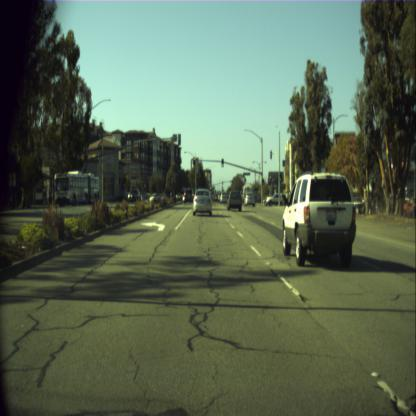Green: (279, 172, 281, 181), (262, 178, 264, 186), (222, 158, 224, 166)
Red: (193, 156, 195, 165)
RedLeft: (123, 176, 126, 183)
